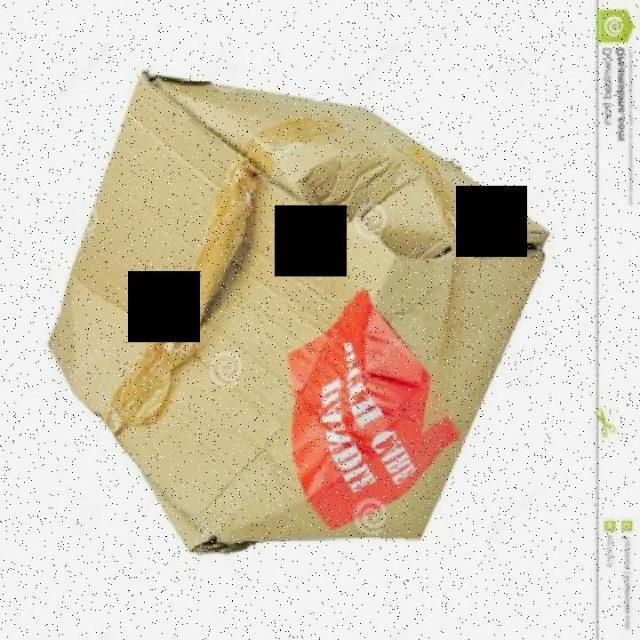box: (51, 74, 552, 558)
